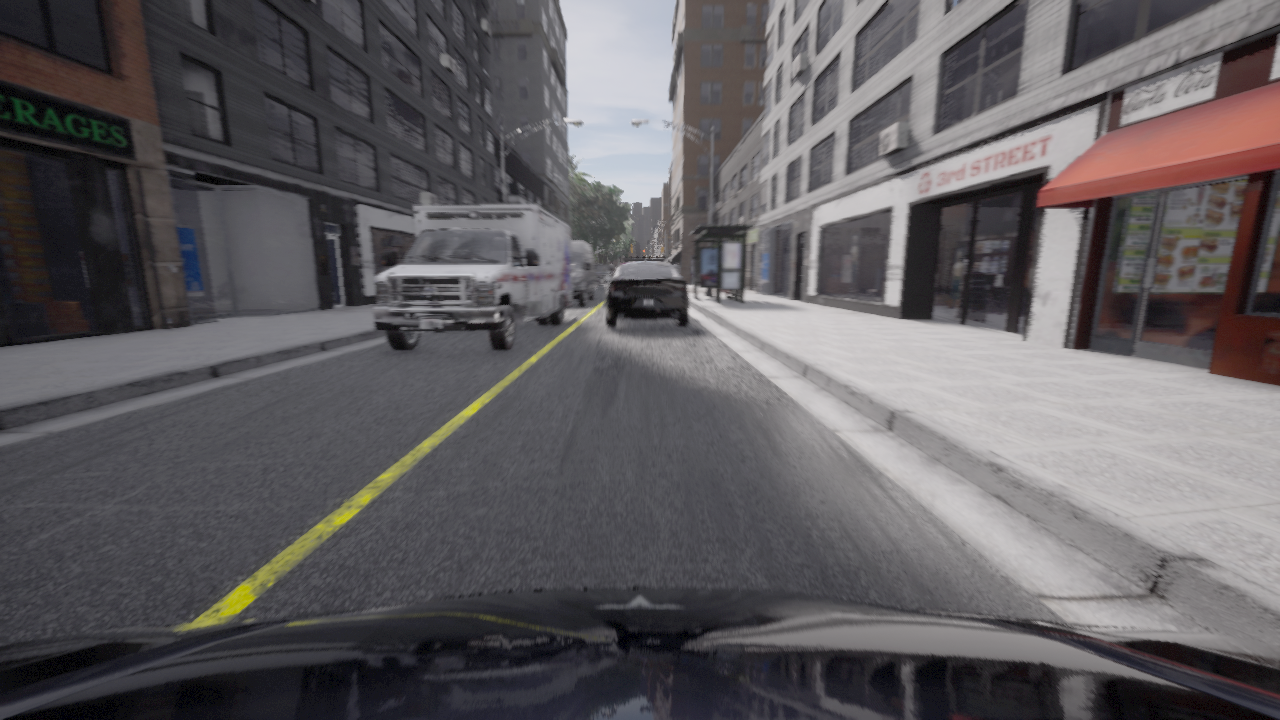cyclist: (0, 588, 1279, 719), (372, 204, 573, 350), (605, 256, 688, 325), (571, 241, 595, 305), (595, 264, 615, 286)
